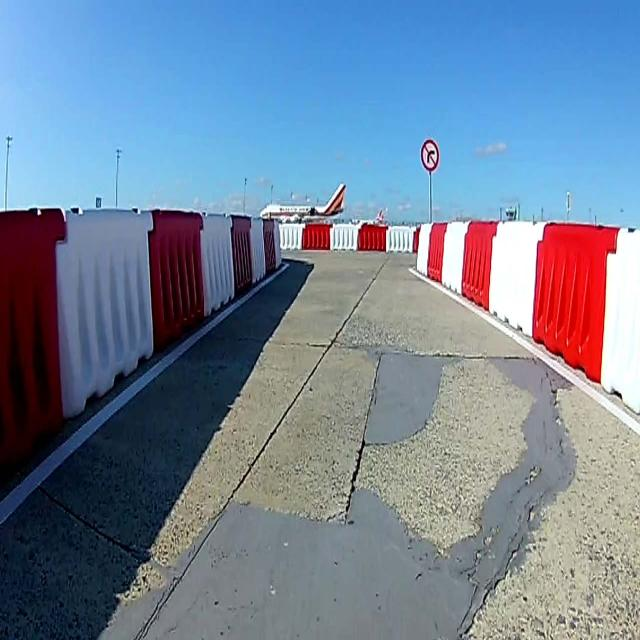sagadonulmez: (421, 140, 439, 170)
